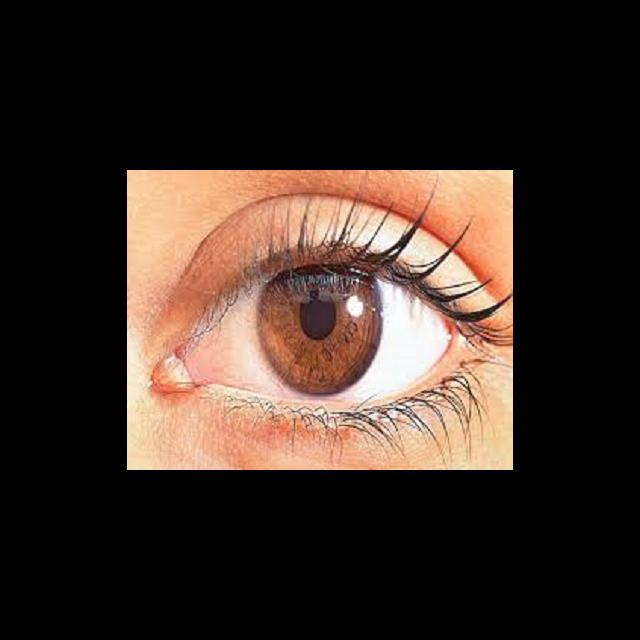eye: (186, 254, 458, 408)
iris: (257, 263, 385, 396)
